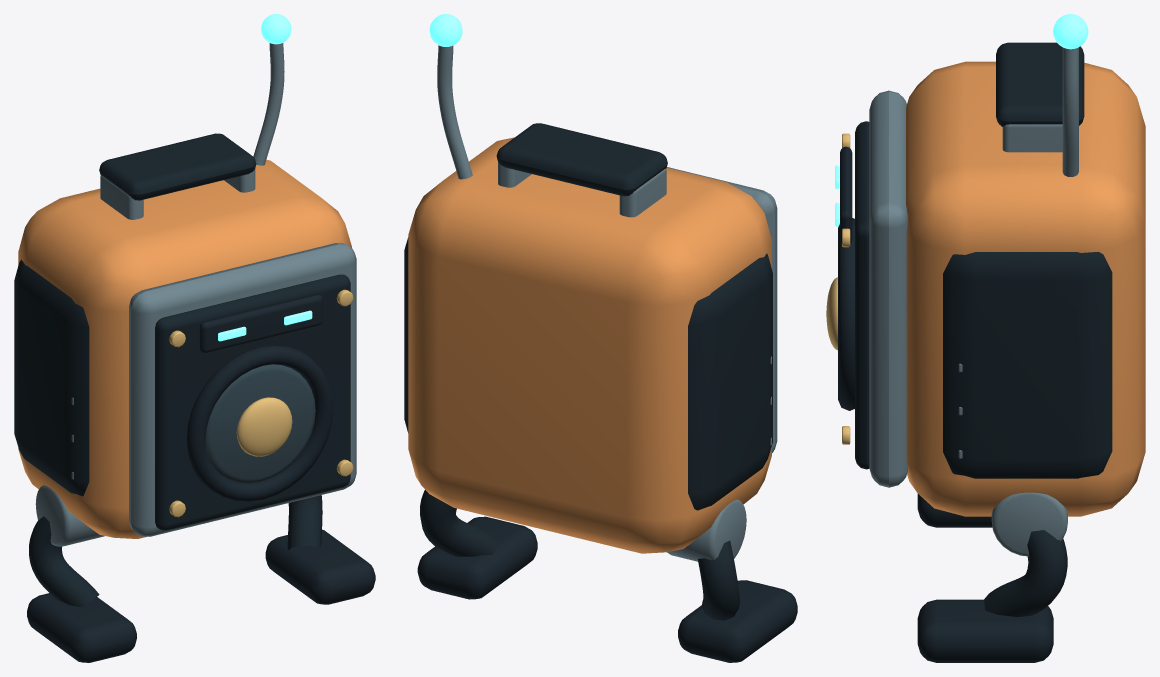
File: call_bit.glb
3 renders of one model, left to right at view 1: azimuth 30°, elevation 25°; view 2: azimuth 150°, elevation 25°; view 3: azimuth 270°, elevation 25°, orthographic. The views are drawn at different scales.
Visible parts, largest first — view 1: call_bit_surface; view 2: call_bit_surface; view 3: call_bit_surface.
Boxes of the visible parts, x1,y1,x2,y2 form: call_bit_surface: (14,14,375,662); call_bit_surface: (404,14,797,662); call_bit_surface: (826,14,1145,662).
Size of the model in its own units: 0.595 by 1.02 by 0.469.
